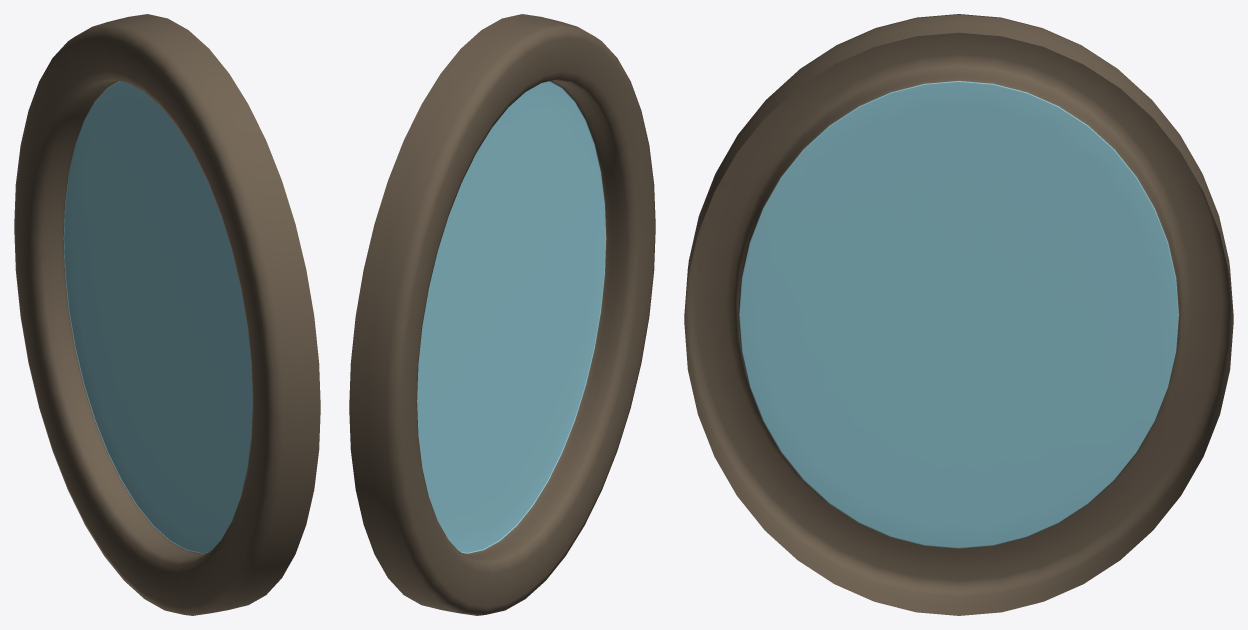
Rendered from mirror01.fbx.
The picture shows the model from 3 angles, left to right: view 1: azimuth 30°, elevation 25°; view 2: azimuth 150°, elevation 25°; view 3: azimuth 270°, elevation 25°; orthographic projection. The views are drawn at different scales.
Visible parts, largest first — view 1: mirror01; view 2: mirror01; view 3: mirror01.
Part boxes in pixels (bbox=[...]): mirror01: bbox=[14, 14, 320, 615]; mirror01: bbox=[349, 14, 655, 615]; mirror01: bbox=[684, 14, 1233, 615].
Size of the model in its own units: 13.95 by 158 by 135.
